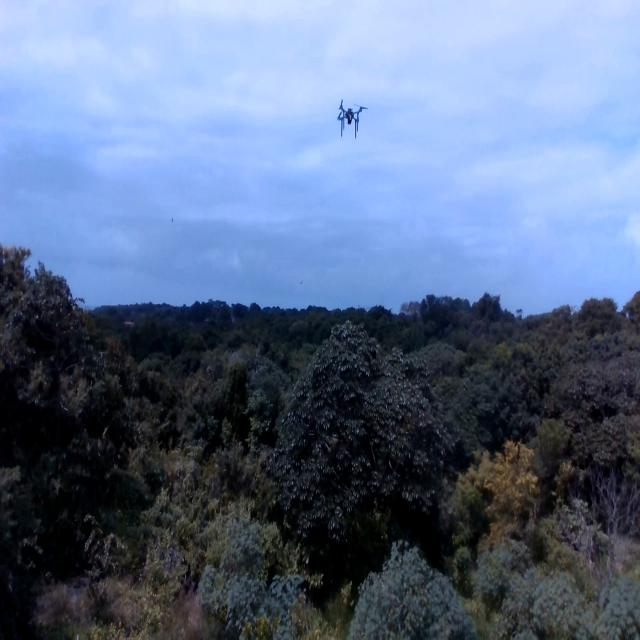-uav-: (330, 92, 371, 150)
